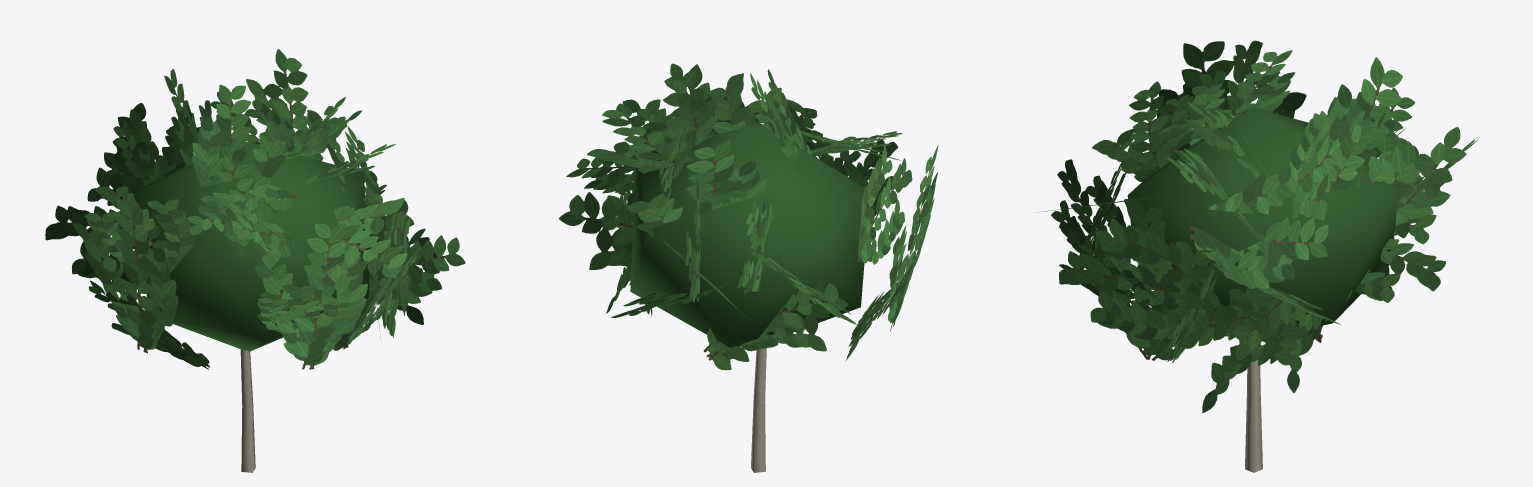
File: LIGUSTRUM_2.glb
3 renders of one model, left to right at view 1: azimuth 30°, elevation 25°; view 2: azimuth 150°, elevation 25°; view 3: azimuth 270°, elevation 25°, orthographic. The views are drawn at different scales.
Visible parts, largest first — view 1: Arv_LIGUSTRUM_lod2; view 2: Arv_LIGUSTRUM_lod2; view 3: Arv_LIGUSTRUM_lod2.
Boxes of the visible parts, <box> form: Arv_LIGUSTRUM_lod2: <box>45,49,465,472</box>; Arv_LIGUSTRUM_lod2: <box>559,63,938,472</box>; Arv_LIGUSTRUM_lod2: <box>1039,40,1477,472</box>.
Bounding box in the file's own units: 11.61 × 11.91 × 12.96.
Materials: 3 (1 with a texture image).
